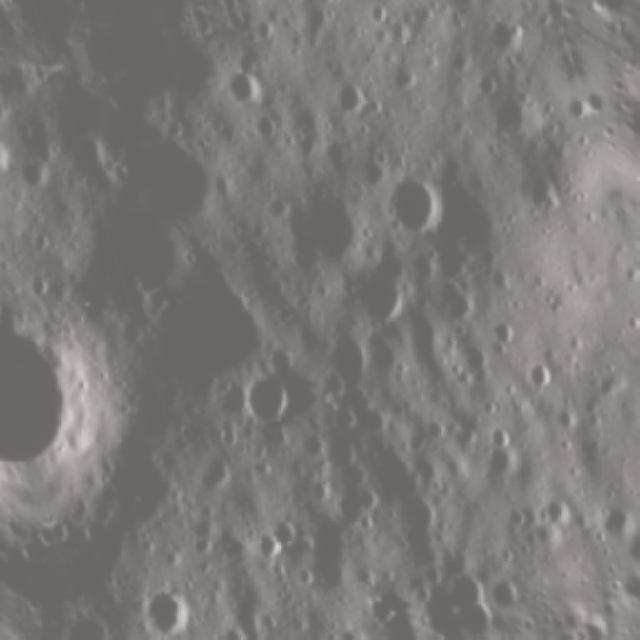crater: (0, 264, 142, 507), (286, 189, 380, 276), (376, 159, 461, 250), (344, 252, 430, 334), (132, 578, 202, 640), (240, 370, 302, 436), (335, 481, 393, 541), (325, 331, 378, 391), (434, 562, 492, 616), (221, 58, 273, 111), (197, 448, 246, 504), (394, 491, 446, 543), (326, 72, 376, 126), (525, 168, 573, 220), (590, 499, 638, 546), (513, 356, 562, 402), (15, 64, 76, 98), (483, 12, 529, 56), (246, 109, 289, 149), (384, 58, 427, 98), (546, 399, 586, 441), (482, 416, 521, 459), (442, 41, 483, 81), (487, 312, 524, 354), (538, 495, 576, 533), (474, 67, 511, 104), (359, 403, 392, 440), (274, 518, 308, 552), (364, 139, 396, 172), (255, 525, 282, 564), (217, 614, 255, 640), (563, 89, 591, 123), (611, 530, 640, 561), (487, 576, 522, 601), (0, 126, 14, 182), (510, 0, 556, 17), (332, 615, 363, 640), (192, 529, 219, 557), (615, 310, 640, 339), (632, 264, 640, 319), (280, 0, 322, 9), (589, 122, 600, 146)
